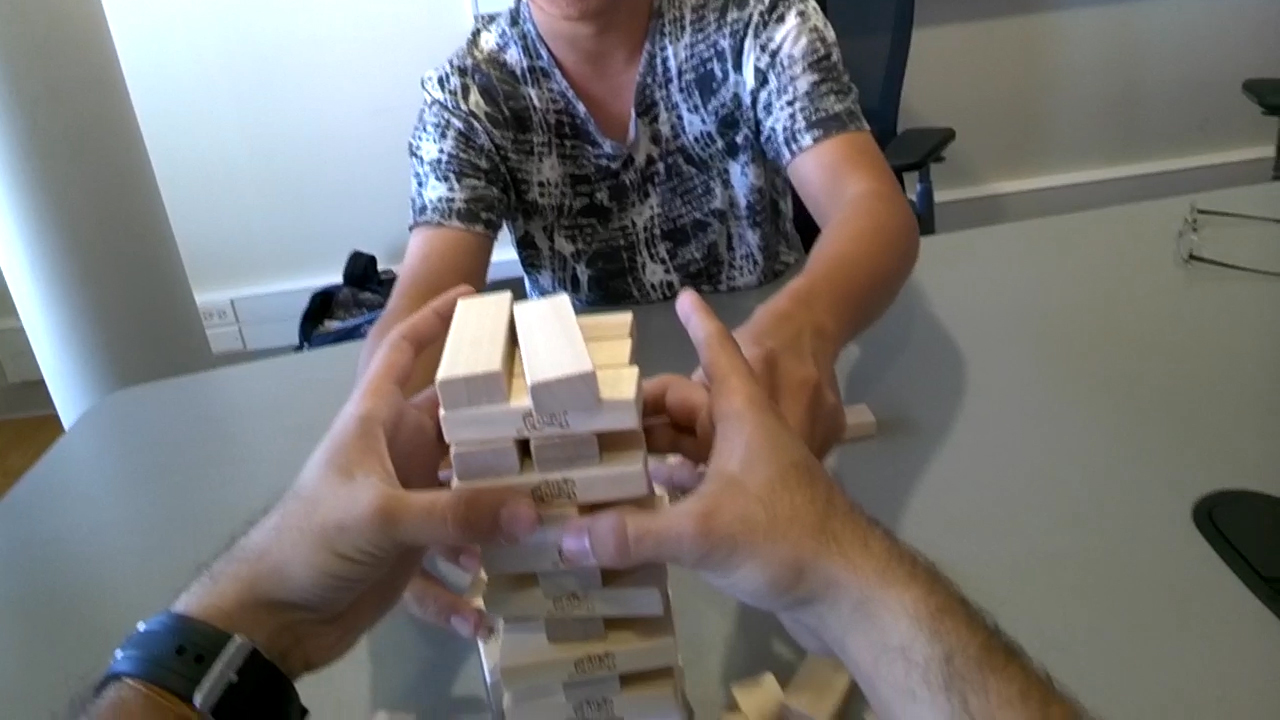hand: (272, 286, 535, 653), (571, 292, 829, 616), (746, 314, 842, 446), (406, 548, 473, 631)
